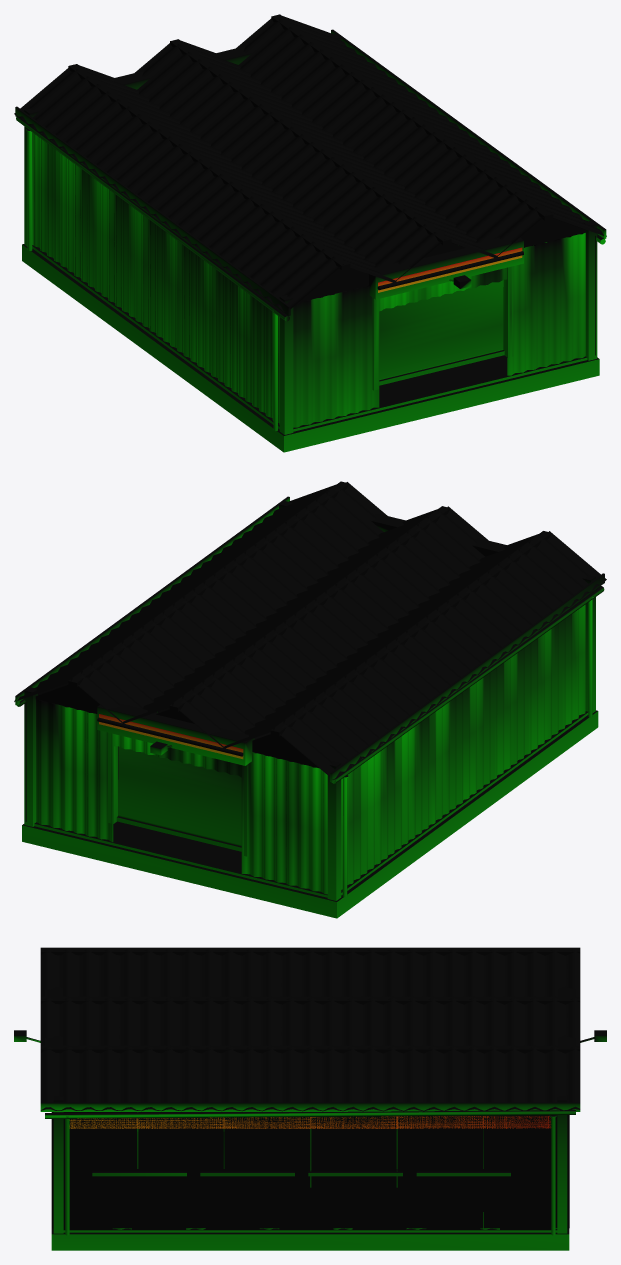
The model's file is civstoragea.glb.
The picture shows the model from 3 angles, top to bottom: view 1: azimuth 30°, elevation 25°; view 2: azimuth 150°, elevation 25°; view 3: azimuth 270°, elevation 25°; orthographic projection.
Visible parts, largest first — view 1: lod0; view 2: lod0; view 3: lod0.
Part boxes in pixels (x1,y1,x2,y2): lod0: (14, 14, 606, 452); lod0: (14, 481, 606, 918); lod0: (14, 947, 606, 1250).
Size of what is drawn, in the model's own units: 8.16 by 4.35 by 13.17.
